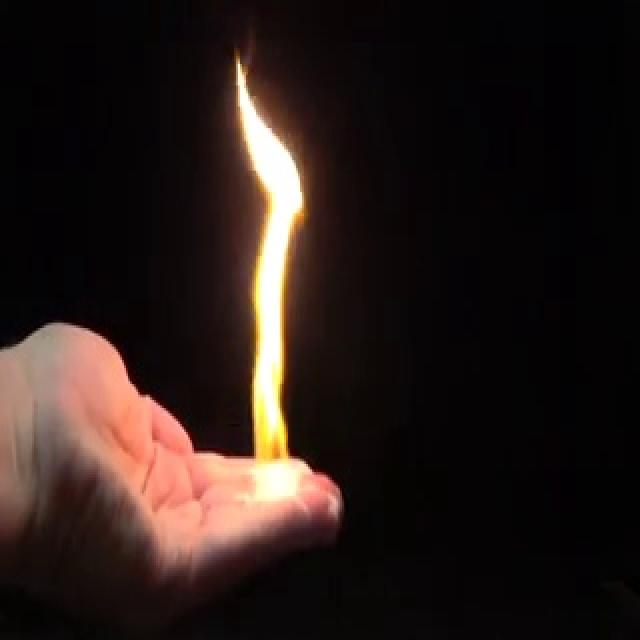fire: (225, 44, 306, 513)
